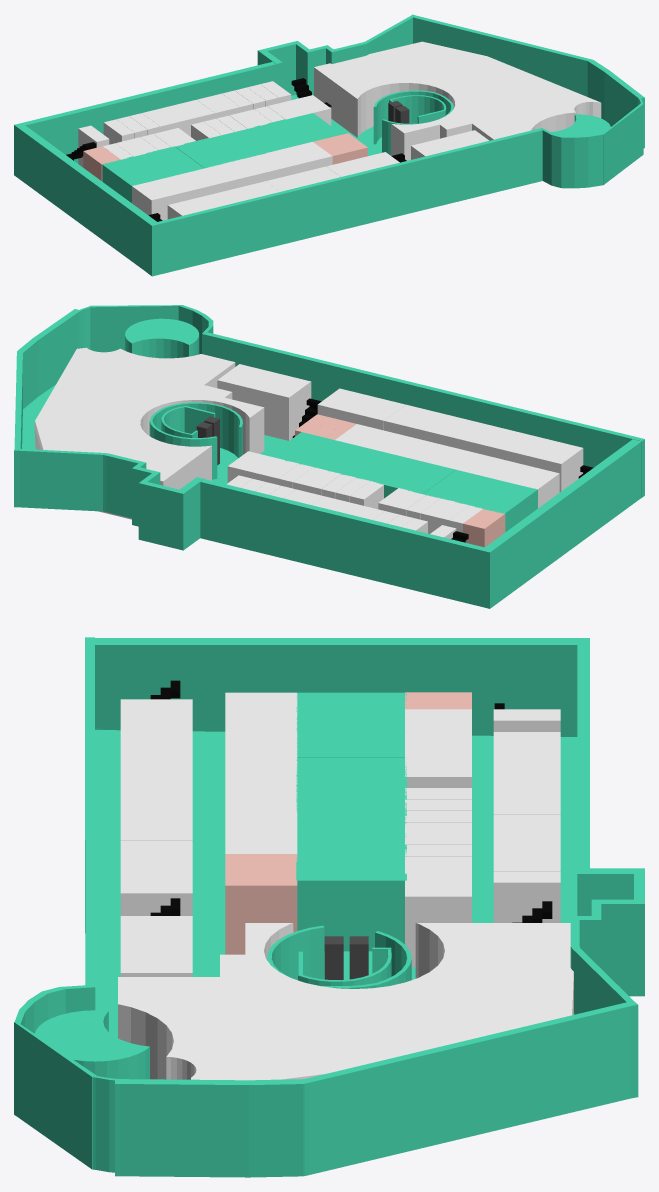
3 renders of one model, top to bottom at view 1: azimuth 30°, elevation 25°; view 2: azimuth 150°, elevation 25°; view 3: azimuth 270°, elevation 25°, orthographic. The views are drawn at different scales.
Visible parts, largest first — view 1: object, テラス, 教室971, 教室972, 教室974, 教室973, 教室979, 教室977, 教室978, 教室975, 97共同研究室, 教室976 (+6 smaller); view 2: object, テラス, 教室979, 教室975, 教室977, 教室978, 教室976, 教室971, 教室972, 教室974, 教室973, 女子トイレ_9_7_1 (+7 smaller); view 3: object, テラス, 教室978, 教室979, 教室977, 教室976, 教室972, 女子トイレ_9_7_2, 9713, コピー室, 教室974, 教室975 (+29 smaller).
Boxes of the visible parts, box(x1,y1,x2,y2) form: object: box(14, 14, 644, 276); テラス: box(314, 41, 601, 160); 教室971: box(132, 176, 191, 220); 教室972: box(172, 164, 241, 198); 教室974: box(266, 142, 332, 175); 教室973: box(222, 153, 285, 186); 教室979: box(411, 130, 488, 159); 教室977: box(265, 166, 340, 191); 教室978: box(326, 152, 399, 176); 教室975: box(167, 194, 228, 219); 97共同研究室: box(155, 103, 202, 136); 教室976: box(214, 181, 279, 204); object: box(14, 305, 644, 608); テラス: box(34, 347, 264, 519); 教室979: box(217, 364, 311, 440); 教室975: box(509, 435, 583, 492); 教室977: box(384, 404, 473, 446); 教室978: box(317, 388, 405, 430); 教室976: box(452, 421, 530, 460); 教室971: box(493, 462, 559, 508); 教室972: box(437, 448, 514, 478); 教室974: box(335, 424, 408, 452); 教室973: box(387, 436, 457, 464); 女子トイレ_9_7_1: box(463, 516, 495, 547); object: box(14, 637, 644, 1177); テラス: box(118, 923, 574, 1080); 教室978: box(120, 840, 192, 915); 教室979: box(120, 916, 192, 976); 教室977: box(120, 786, 192, 840); 教室976: box(120, 740, 192, 786); 教室972: box(225, 728, 297, 773); 女子トイレ_9_7_2: box(225, 854, 261, 954); 9713: box(493, 871, 560, 922); コピー室: box(405, 882, 471, 967); 教室974: box(225, 812, 297, 853); 教室975: box(120, 699, 192, 740).
Size of the model in its own units: 2.34 by 0.2505 by 1.4.
